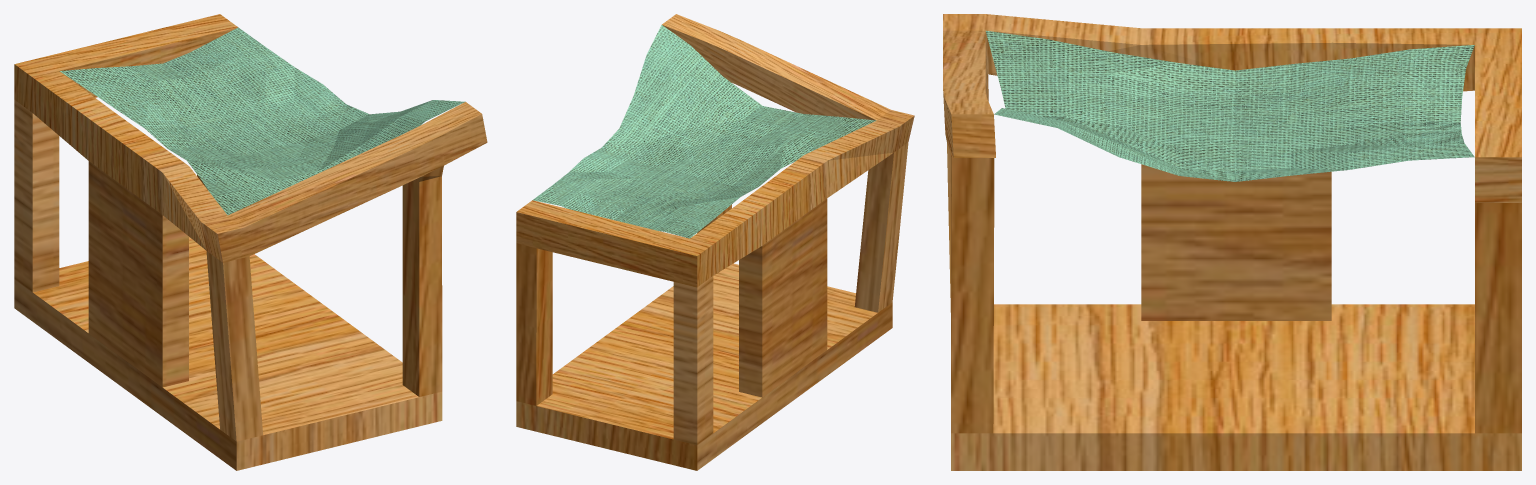
File: WoodShelter.dae
3 renders of one model, left to right at view 1: azimuth 30°, elevation 25°; view 2: azimuth 150°, elevation 25°; view 3: azimuth 270°, elevation 25°, orthographic. The views are drawn at different scales.
Parts seen in each view (by area): view 1: Cube.001; view 2: Cube.001; view 3: Cube.001.
Boxes of the visible parts, bbox=[...] form: Cube.001: bbox=[14, 14, 487, 470]; Cube.001: bbox=[516, 14, 914, 470]; Cube.001: bbox=[943, 14, 1521, 470].
Bounding box in the file's own units: 6.97 × 9.92 × 7.22.
